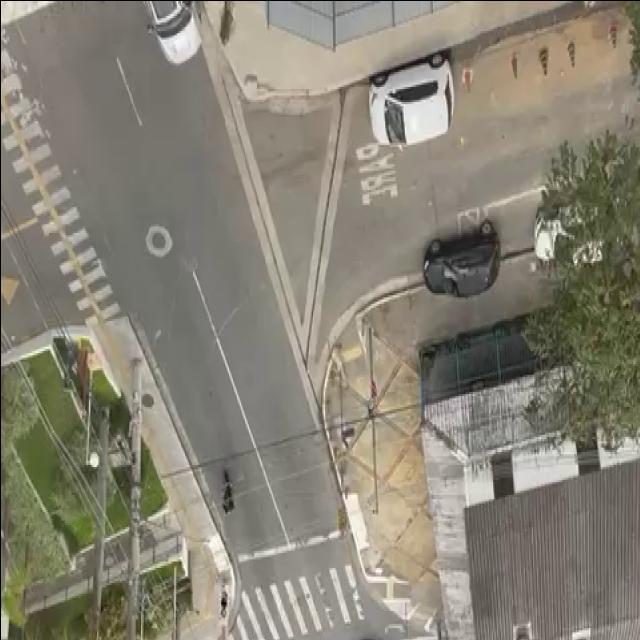car: (364, 48, 458, 150), (418, 216, 507, 302), (137, 0, 210, 68)
motorbike: (214, 457, 240, 525)
